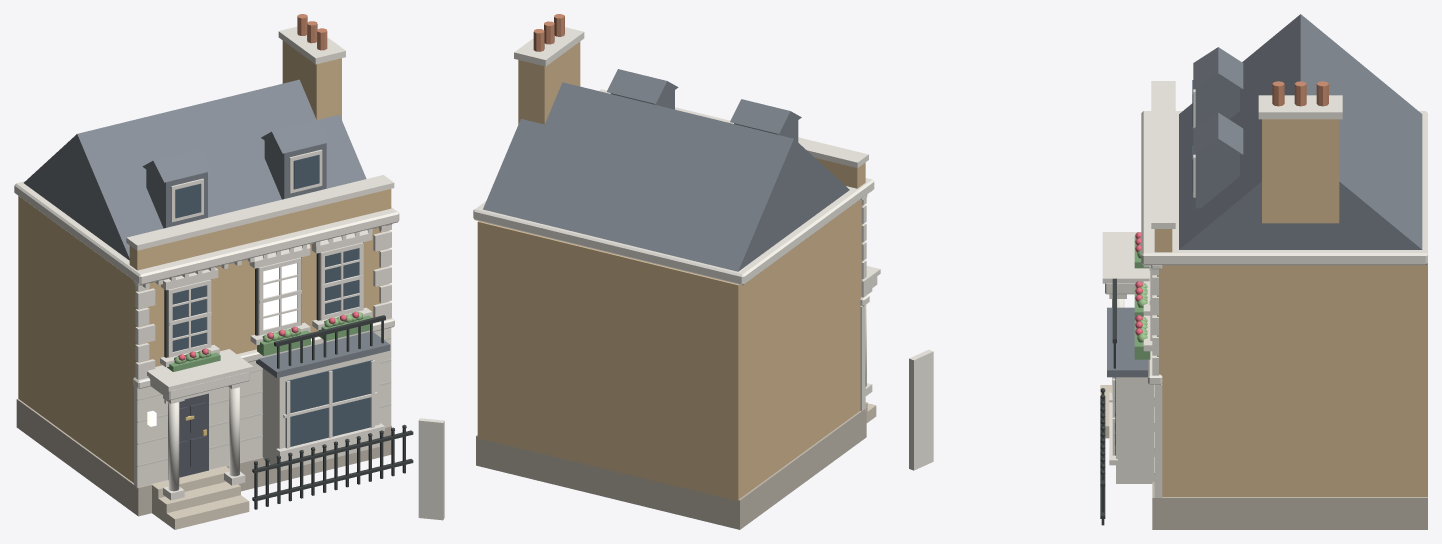
Rendered from terrace-a-2.glb.
3 renders of one model, left to right at view 1: azimuth 30°, elevation 25°; view 2: azimuth 150°, elevation 25°; view 3: azimuth 270°, elevation 25°, orthographic. The views are drawn at different scales.
Parts seen in each view (by area): view 1: terrace-a-2; view 2: terrace-a-2; view 3: terrace-a-2.
Part boxes in pixels (bbox=[...]): terrace-a-2: bbox=[14, 14, 444, 529]; terrace-a-2: bbox=[473, 14, 880, 529]; terrace-a-2: bbox=[909, 14, 1427, 529].
Bounding box in the file's own units: 3.08 × 4.37 × 4.69.
